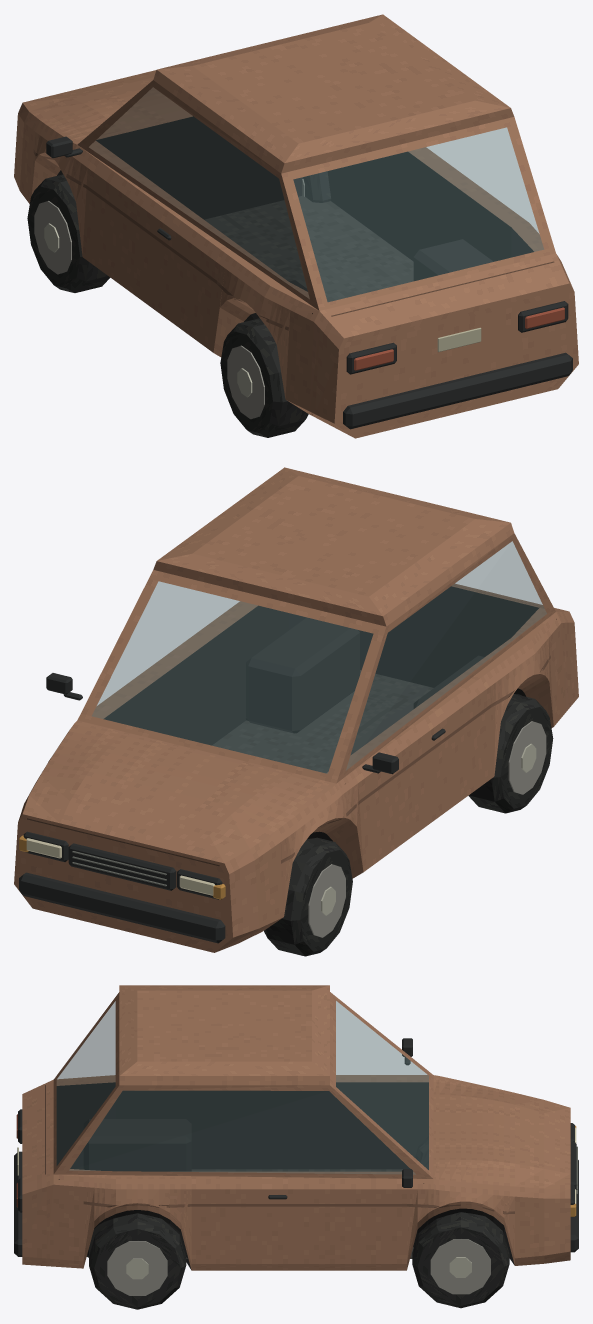
File: vehicle_micro.glb
3 views of the same model, one above another, from view 1: azimuth 30°, elevation 25°; view 2: azimuth 150°, elevation 25°; view 3: azimuth 270°, elevation 25° (orthographic). The views are drawn at different scales.
Visible parts, largest first — view 1: closed_body, glazing, roof_body; view 2: closed_body, glazing, roof_body; view 3: closed_body, glazing, roof_body.
Part boxes in pixels (<box>): closed_body: <box>14,70,578,438</box>; glazing: <box>89,87,543,301</box>; roof_body: <box>153,14,514,173</box>; closed_body: <box>14,533,578,956</box>; glazing: <box>92,541,546,773</box>; roof_body: <box>153,467,514,626</box>; closed_body: <box>14,992,578,1309</box>; glazing: <box>56,1001,428,1174</box>; roof_body: <box>119,985,329,1085</box>.
Bounding box in the file's own units: 1.83 × 1.41 × 3.13.
Materials: 2 (2 with a texture image).
